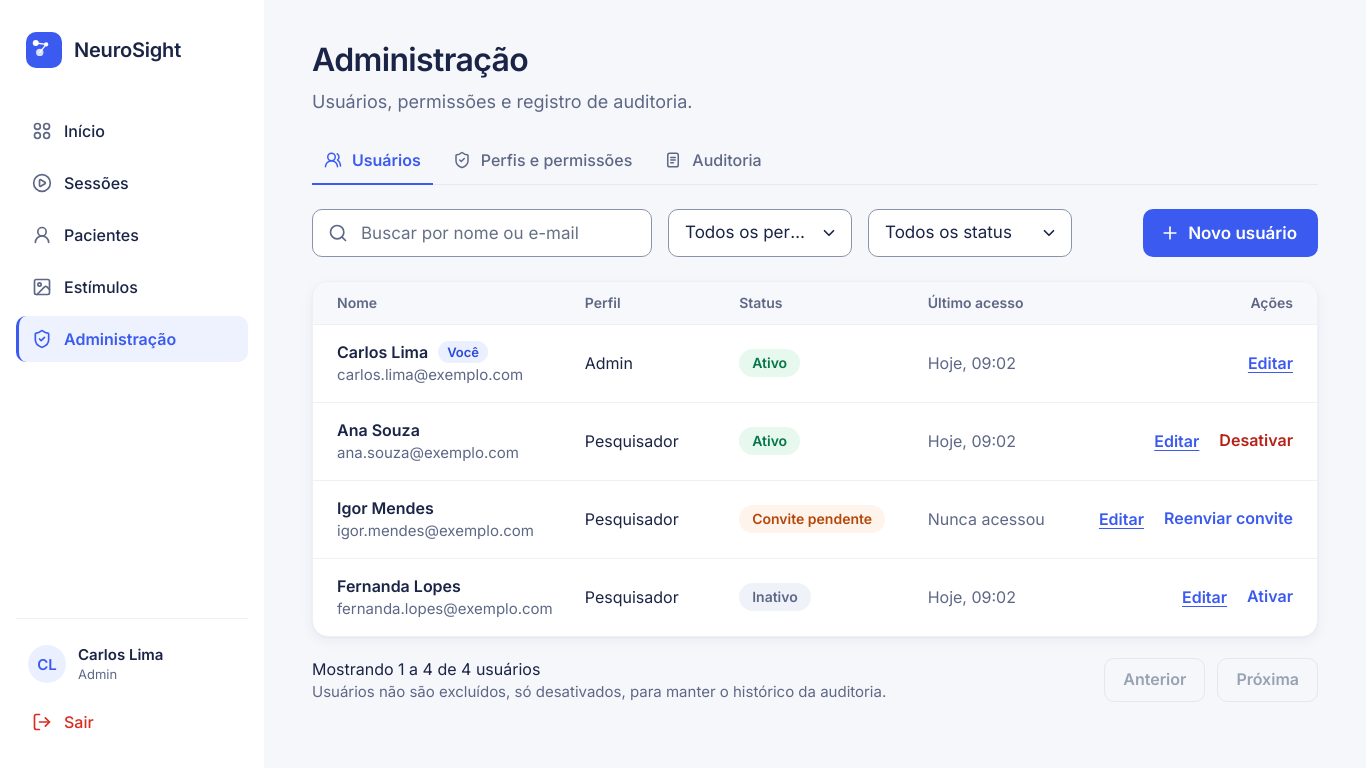
Test: W19 Lista de usuários › filtra pela URL e desativa pela linha
Select "Convite pendente" in the 2nd dropdown named "Status": (970,233) [868,209,1072,257]
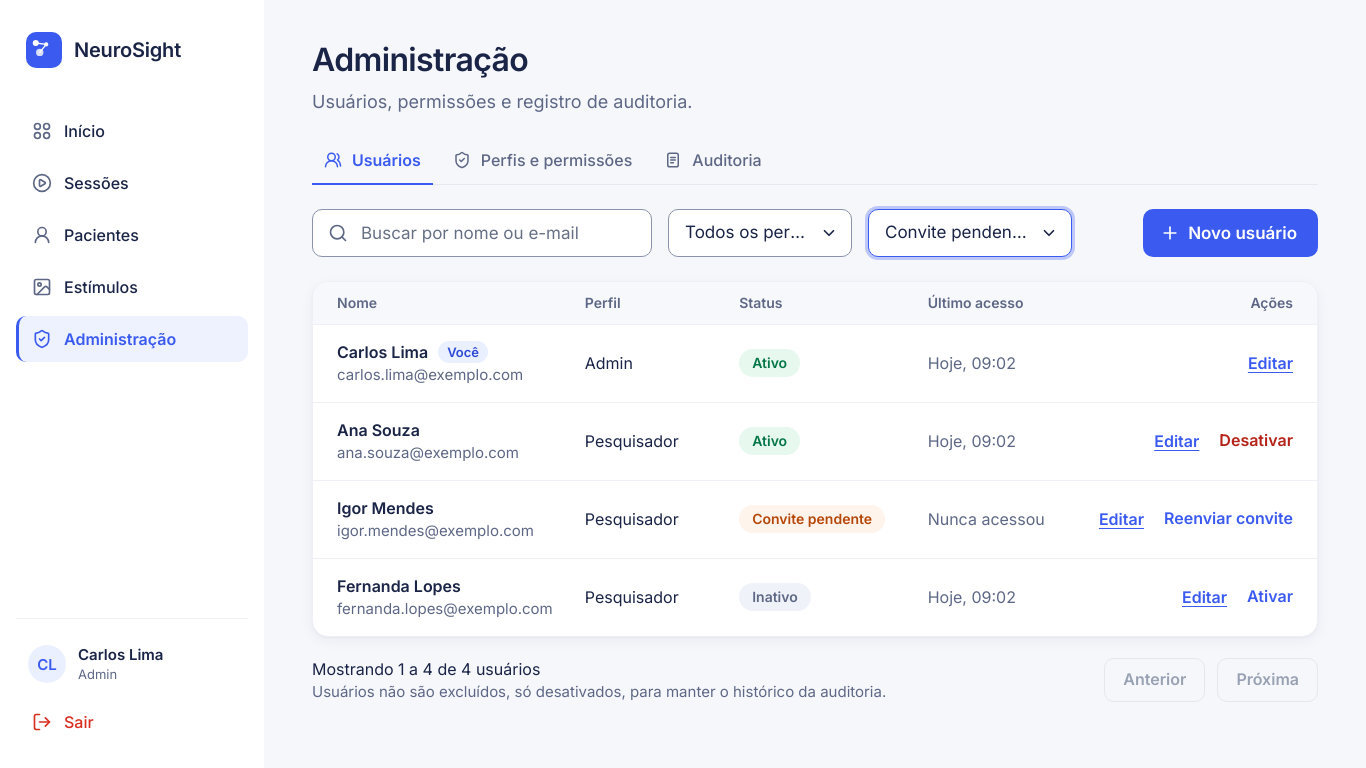
Click the button "Desativar": (1256,441) [1219,431,1293,451]
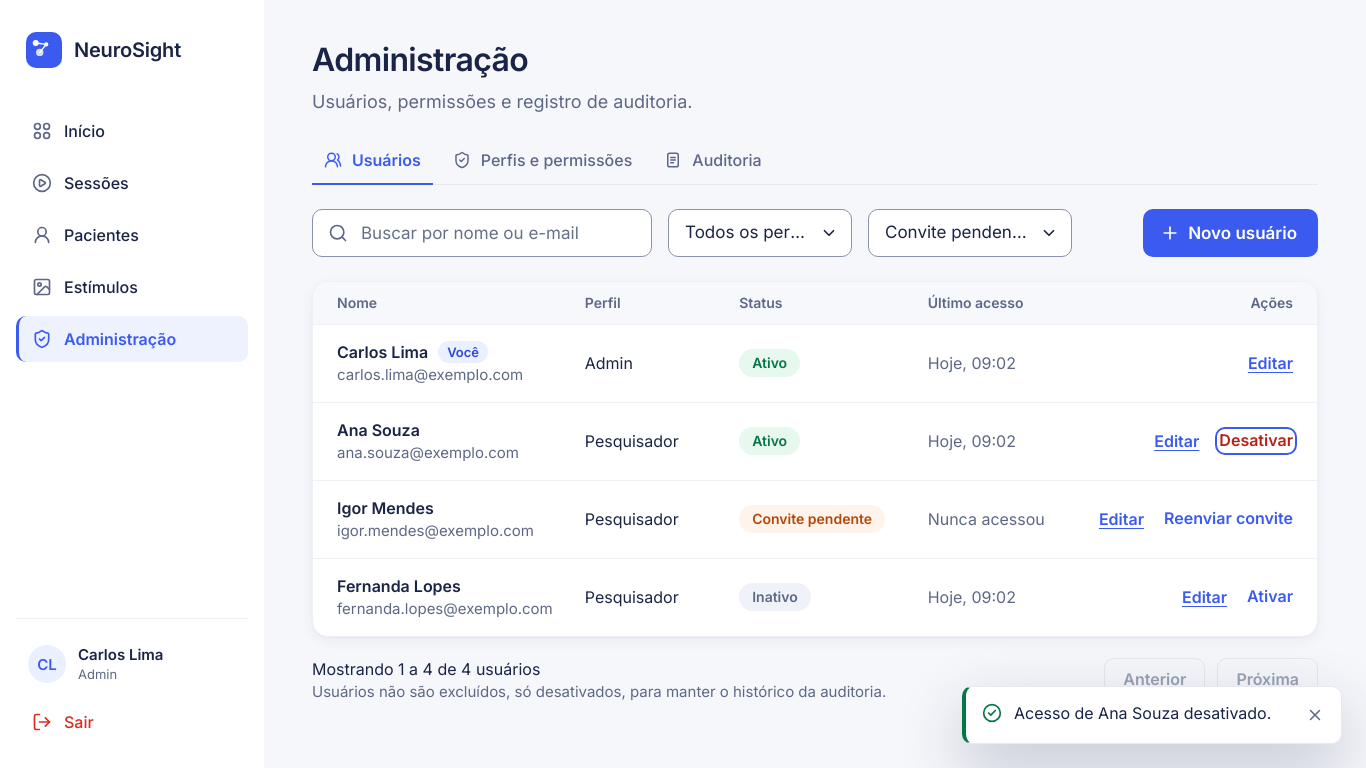
Result: the text "Acesso de Ana Souza desativado." is shown at [1014,701,1289,725]
